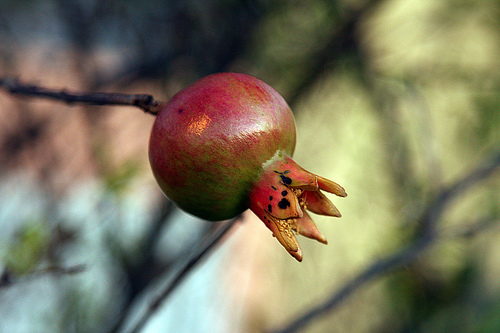pomogranate: (147, 72, 349, 263)
